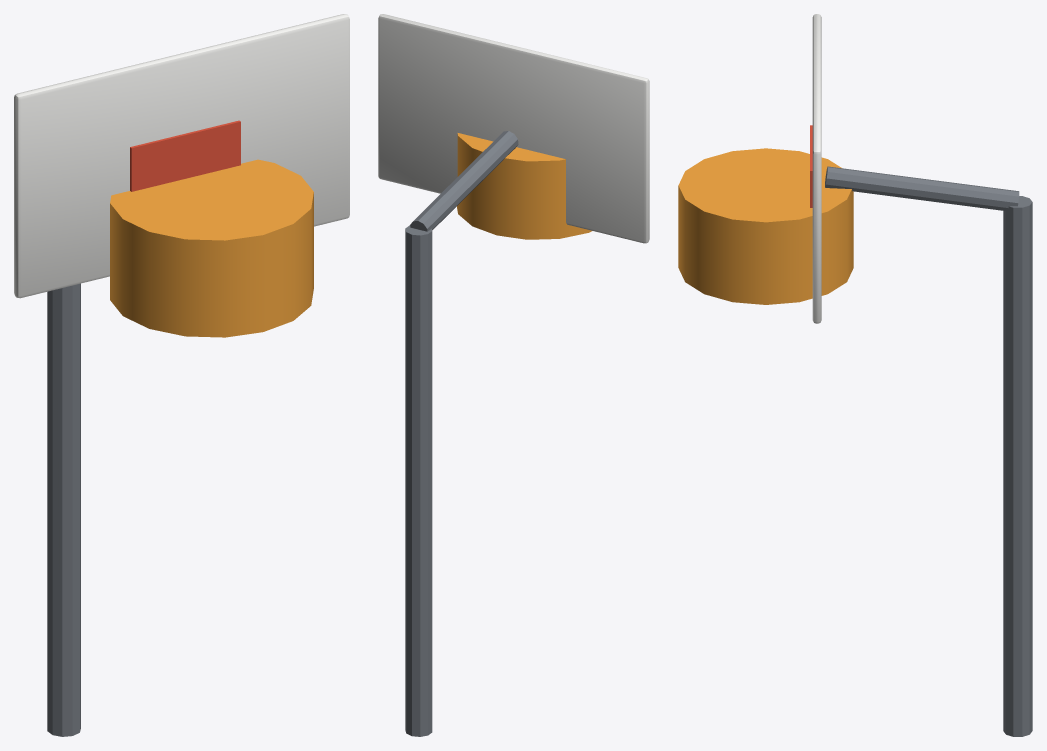
File: panier_basket.glb
The picture shows the model from 3 angles, left to right: view 1: azimuth 30°, elevation 25°; view 2: azimuth 150°, elevation 25°; view 3: azimuth 270°, elevation 25°; orthographic projection. The views are drawn at different scales.
Parts seen in each view (by area): view 1: panier_basket; view 2: panier_basket; view 3: panier_basket.
Boxes of the visible parts, <box> form: panier_basket: <box>14,14,349,736</box>; panier_basket: <box>378,14,649,736</box>; panier_basket: <box>678,14,1032,736</box>.
Bounding box in the file's own units: 1.8 × 3.92 × 1.94.
